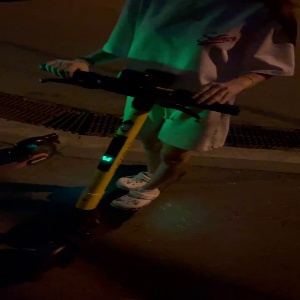human on a scooter: (29, 1, 298, 267)
